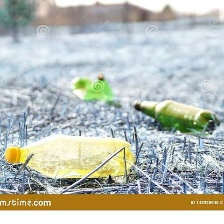bottle: (3, 130, 134, 183), (127, 95, 220, 140), (67, 69, 114, 105)
